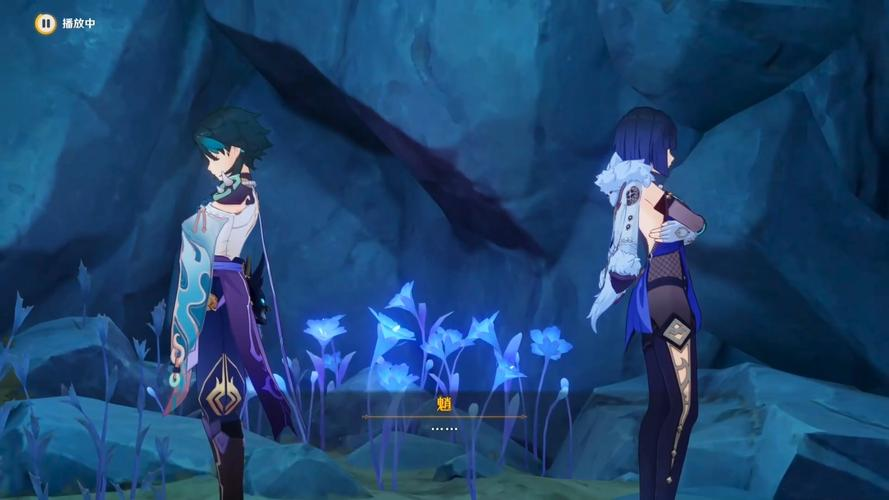夜兰: (592, 107, 717, 500)
